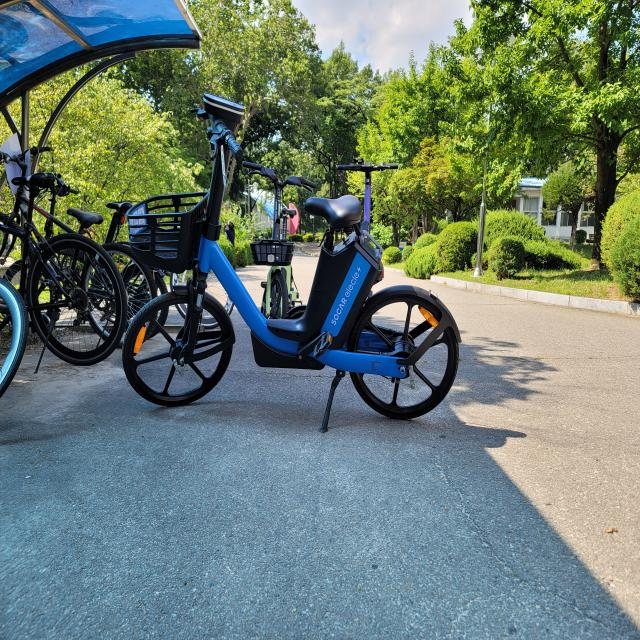bicycle: (121, 93, 462, 432), (0, 144, 128, 398)
